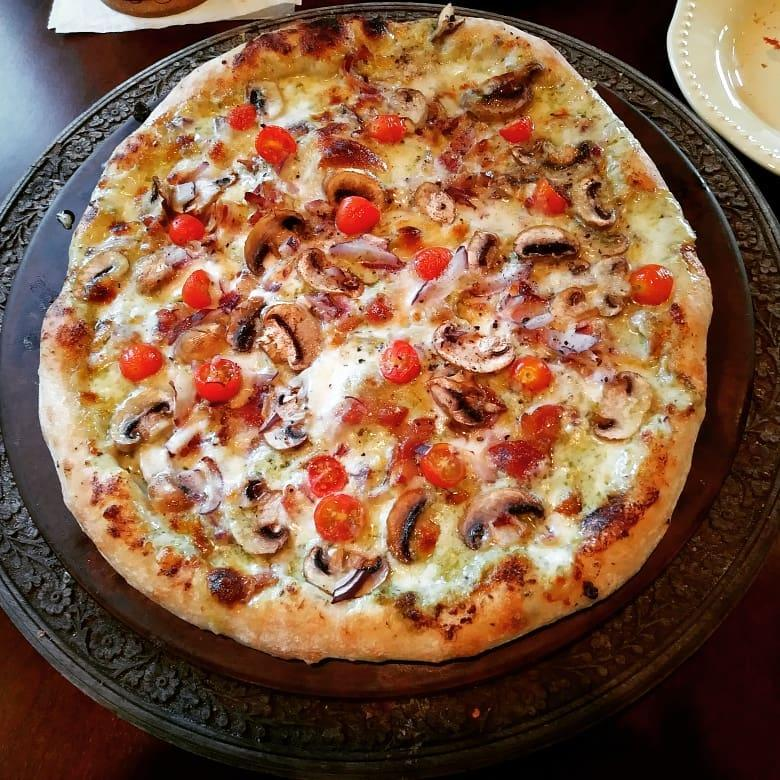Mushroom: (108, 387, 220, 514), (461, 489, 545, 546), (233, 477, 295, 554), (256, 301, 323, 370), (299, 546, 390, 596), (244, 209, 303, 277), (432, 324, 514, 372), (594, 371, 650, 440), (428, 377, 504, 424), (295, 250, 364, 299), (386, 488, 426, 564), (153, 170, 236, 206), (71, 249, 129, 297), (261, 393, 310, 447), (573, 176, 615, 226), (513, 226, 578, 257), (318, 169, 386, 198), (548, 286, 600, 323), (463, 230, 501, 269)
Pizza: (56, 16, 717, 678)
Tomatoes: (487, 439, 553, 479), (313, 497, 363, 540), (194, 360, 242, 402), (256, 127, 301, 171), (629, 265, 673, 307), (335, 196, 382, 235), (424, 444, 464, 486), (521, 404, 564, 443), (305, 457, 350, 494), (120, 343, 164, 380), (382, 342, 421, 382), (509, 357, 552, 391), (533, 177, 568, 214), (414, 245, 452, 279), (180, 270, 213, 308), (171, 216, 204, 246), (368, 114, 406, 140), (499, 119, 535, 142), (230, 104, 256, 130)
